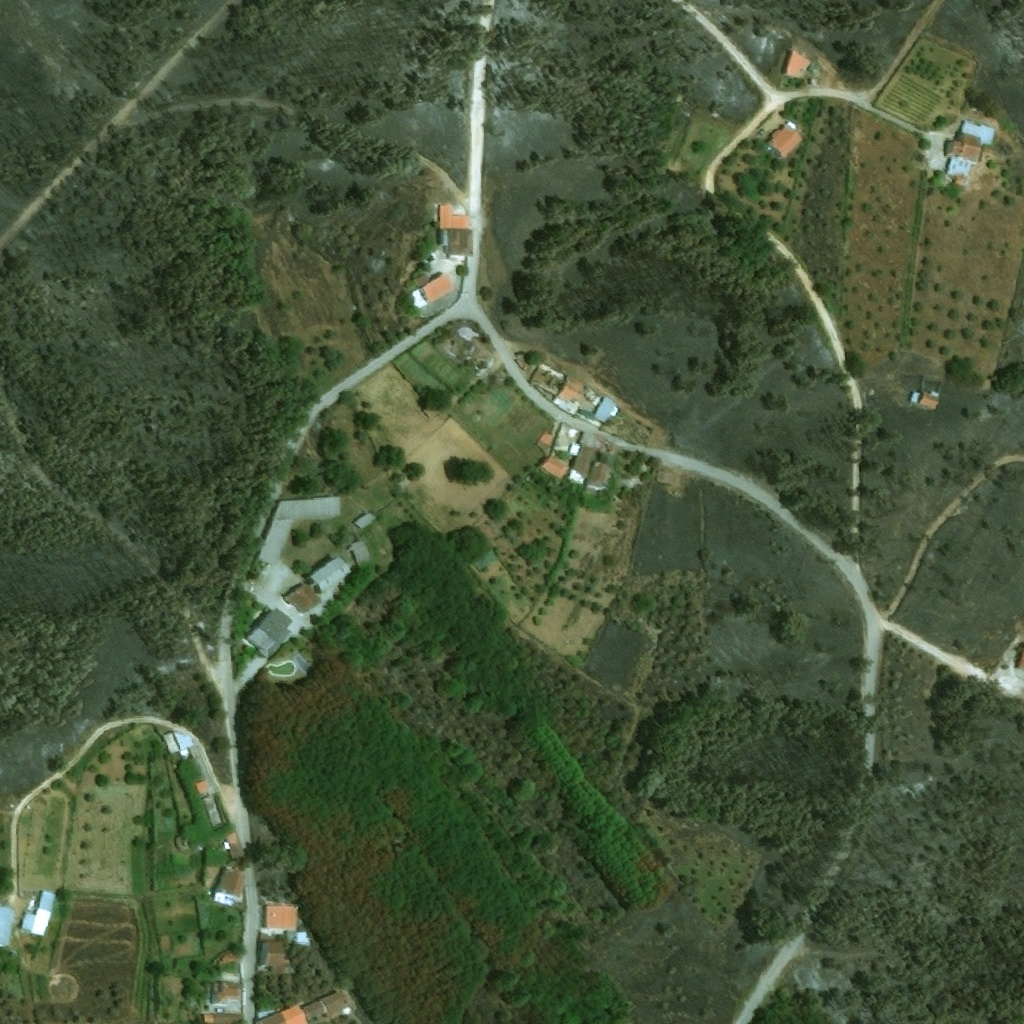0 no-damage: (256, 497, 339, 566), (945, 119, 995, 178), (246, 604, 294, 660), (436, 205, 474, 256), (307, 555, 353, 593), (20, 889, 55, 937), (301, 986, 350, 1020), (413, 271, 457, 306), (210, 867, 247, 907), (282, 581, 323, 617), (567, 445, 599, 484), (259, 940, 298, 970), (550, 422, 581, 458), (255, 1003, 307, 1023), (769, 126, 801, 158), (586, 459, 614, 493), (556, 374, 586, 405), (539, 453, 569, 480), (265, 904, 296, 930), (785, 49, 811, 80), (593, 396, 619, 424), (201, 793, 222, 826), (210, 982, 241, 1004), (348, 538, 372, 566), (0, 906, 16, 948), (223, 830, 244, 859), (354, 511, 378, 531), (161, 732, 178, 756), (217, 952, 241, 969), (172, 731, 194, 749), (203, 1013, 242, 1023), (918, 392, 938, 409), (536, 431, 554, 449), (193, 779, 210, 795), (294, 932, 308, 946), (809, 79, 814, 85)
